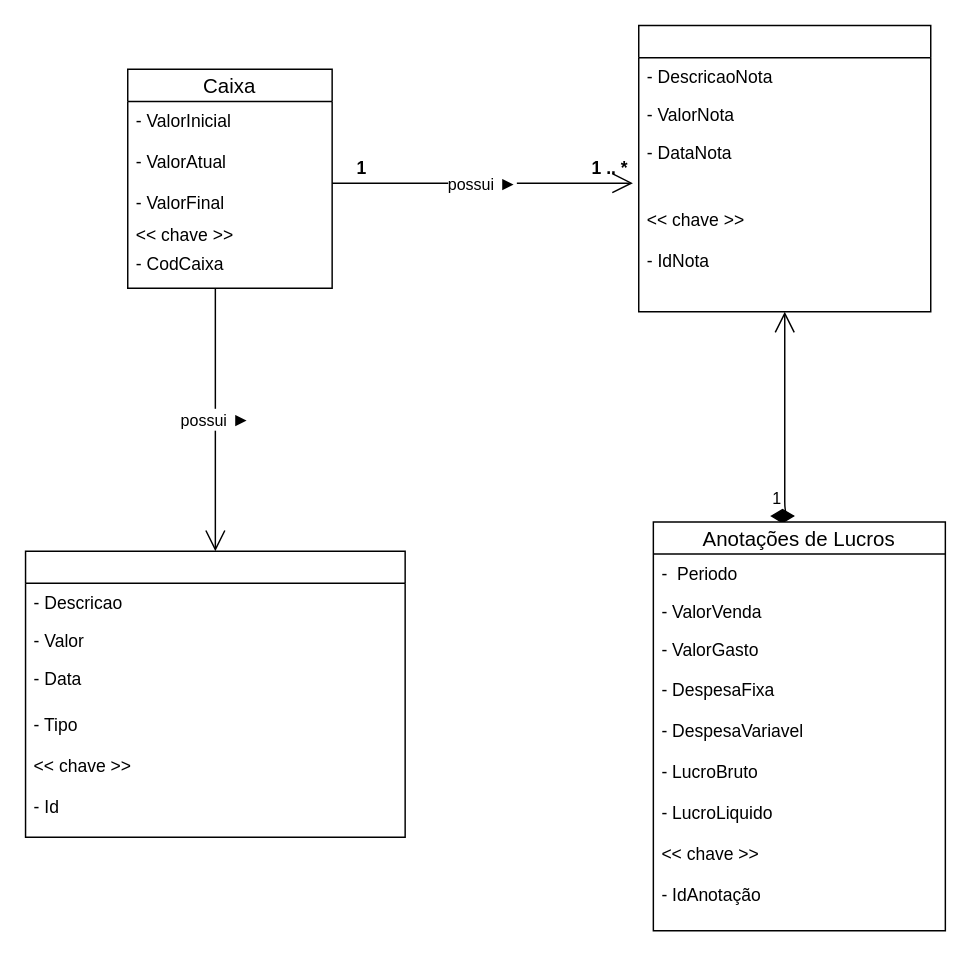
This 971x961 diagram has some shape labels left out. Here are the shapes that lost their labels. From the top down, the box of each, then its label:
(637, 24, 931, 312): Pasta de notas fiscais
(24, 550, 405, 837): Pasta de boletos bancários/ duplicatas
